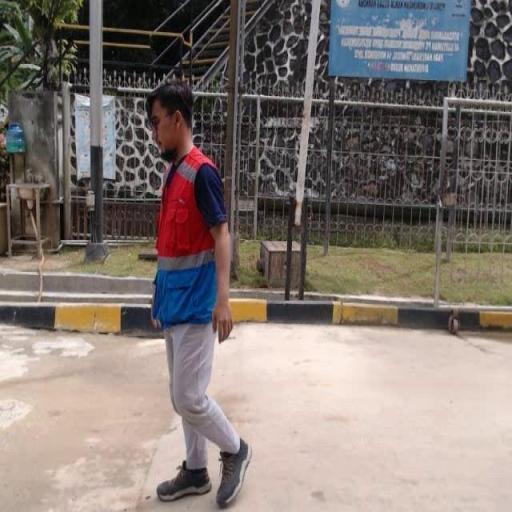Boots: (210, 435, 254, 512), (153, 460, 212, 506)
Person: (114, 79, 264, 512)
